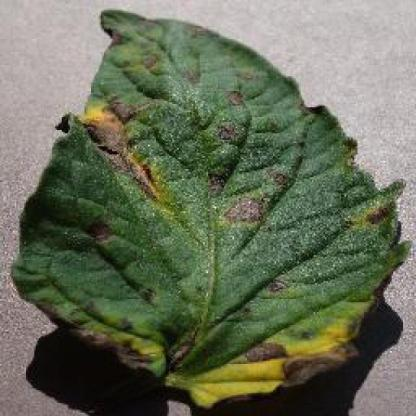Tomato_Blight: (15, 11, 402, 406)
